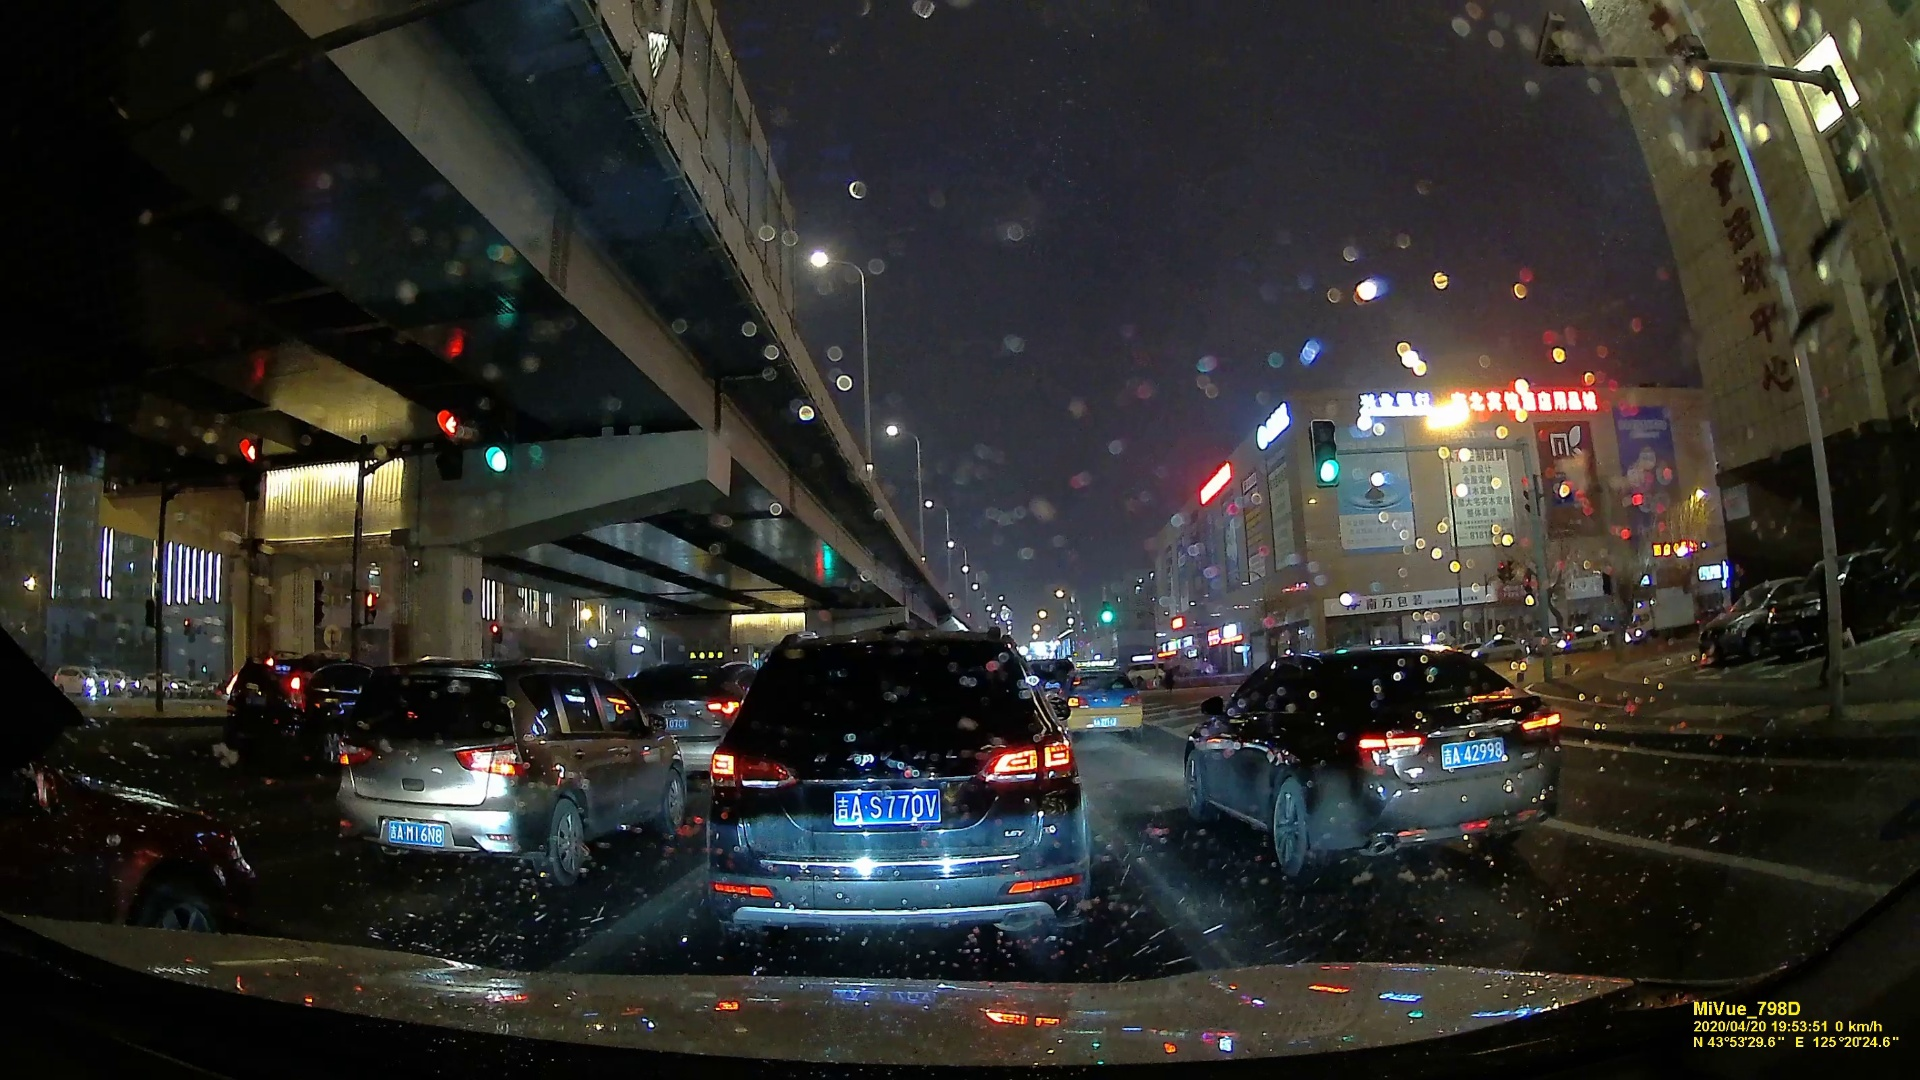traffic_sign: (481, 404, 513, 473), (1313, 418, 1342, 488), (235, 433, 262, 496), (436, 406, 464, 464), (1100, 597, 1113, 624)
vehicle: (695, 633, 1095, 943), (1184, 642, 1565, 880), (309, 649, 686, 882), (212, 650, 345, 735), (1064, 667, 1145, 738)
